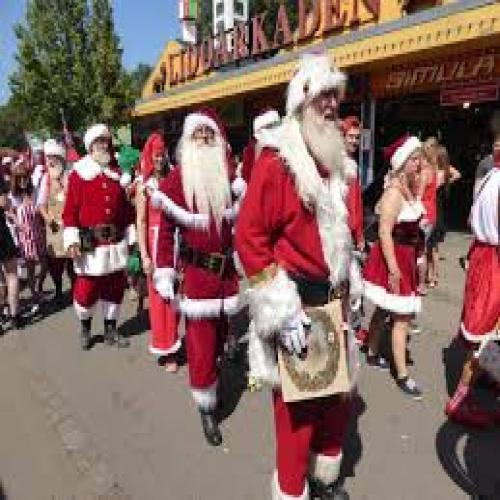Santa: (236, 52, 358, 500), (152, 104, 244, 448), (62, 121, 137, 350)
